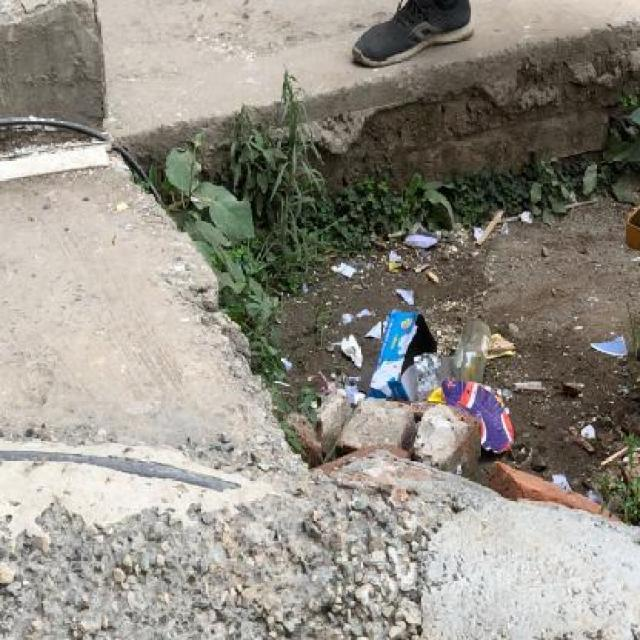garbage: (317, 228, 640, 464), (322, 0, 498, 66), (545, 463, 614, 508)
